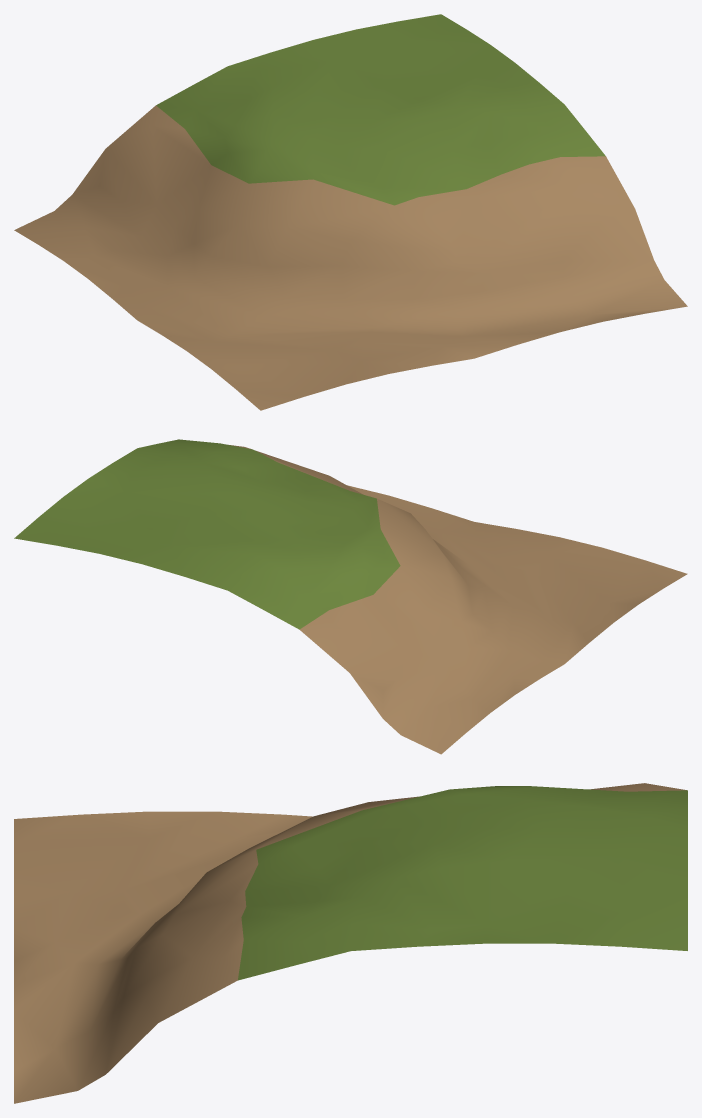
File: rpgpp_av_terrain_lake_03_20x20m.gltf
3 views of the same model, one above another, from view 1: azimuth 30°, elevation 25°; view 2: azimuth 150°, elevation 25°; view 3: azimuth 270°, elevation 25° (orthographic). The views are drawn at different scales.
Visible parts, largest first — view 1: rpgpp_av_terrain_lake_03_20x20m; view 2: rpgpp_av_terrain_lake_03_20x20m; view 3: rpgpp_av_terrain_lake_03_20x20m.
Boxes of the visible parts, bbox=[...] form: rpgpp_av_terrain_lake_03_20x20m: bbox=[14, 14, 687, 410]; rpgpp_av_terrain_lake_03_20x20m: bbox=[14, 439, 687, 754]; rpgpp_av_terrain_lake_03_20x20m: bbox=[14, 783, 687, 1103].
Size of the model in its own units: 0.2 by 0.0538 by 0.2.
Materials: 1 (1 with a texture image).
